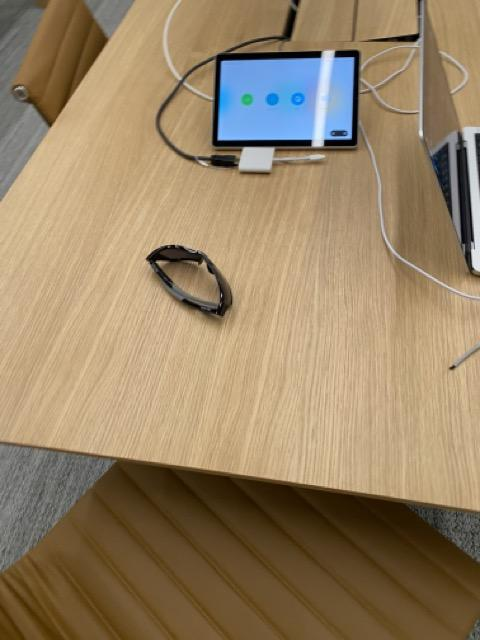Sunglasses: (146, 243, 234, 319)
